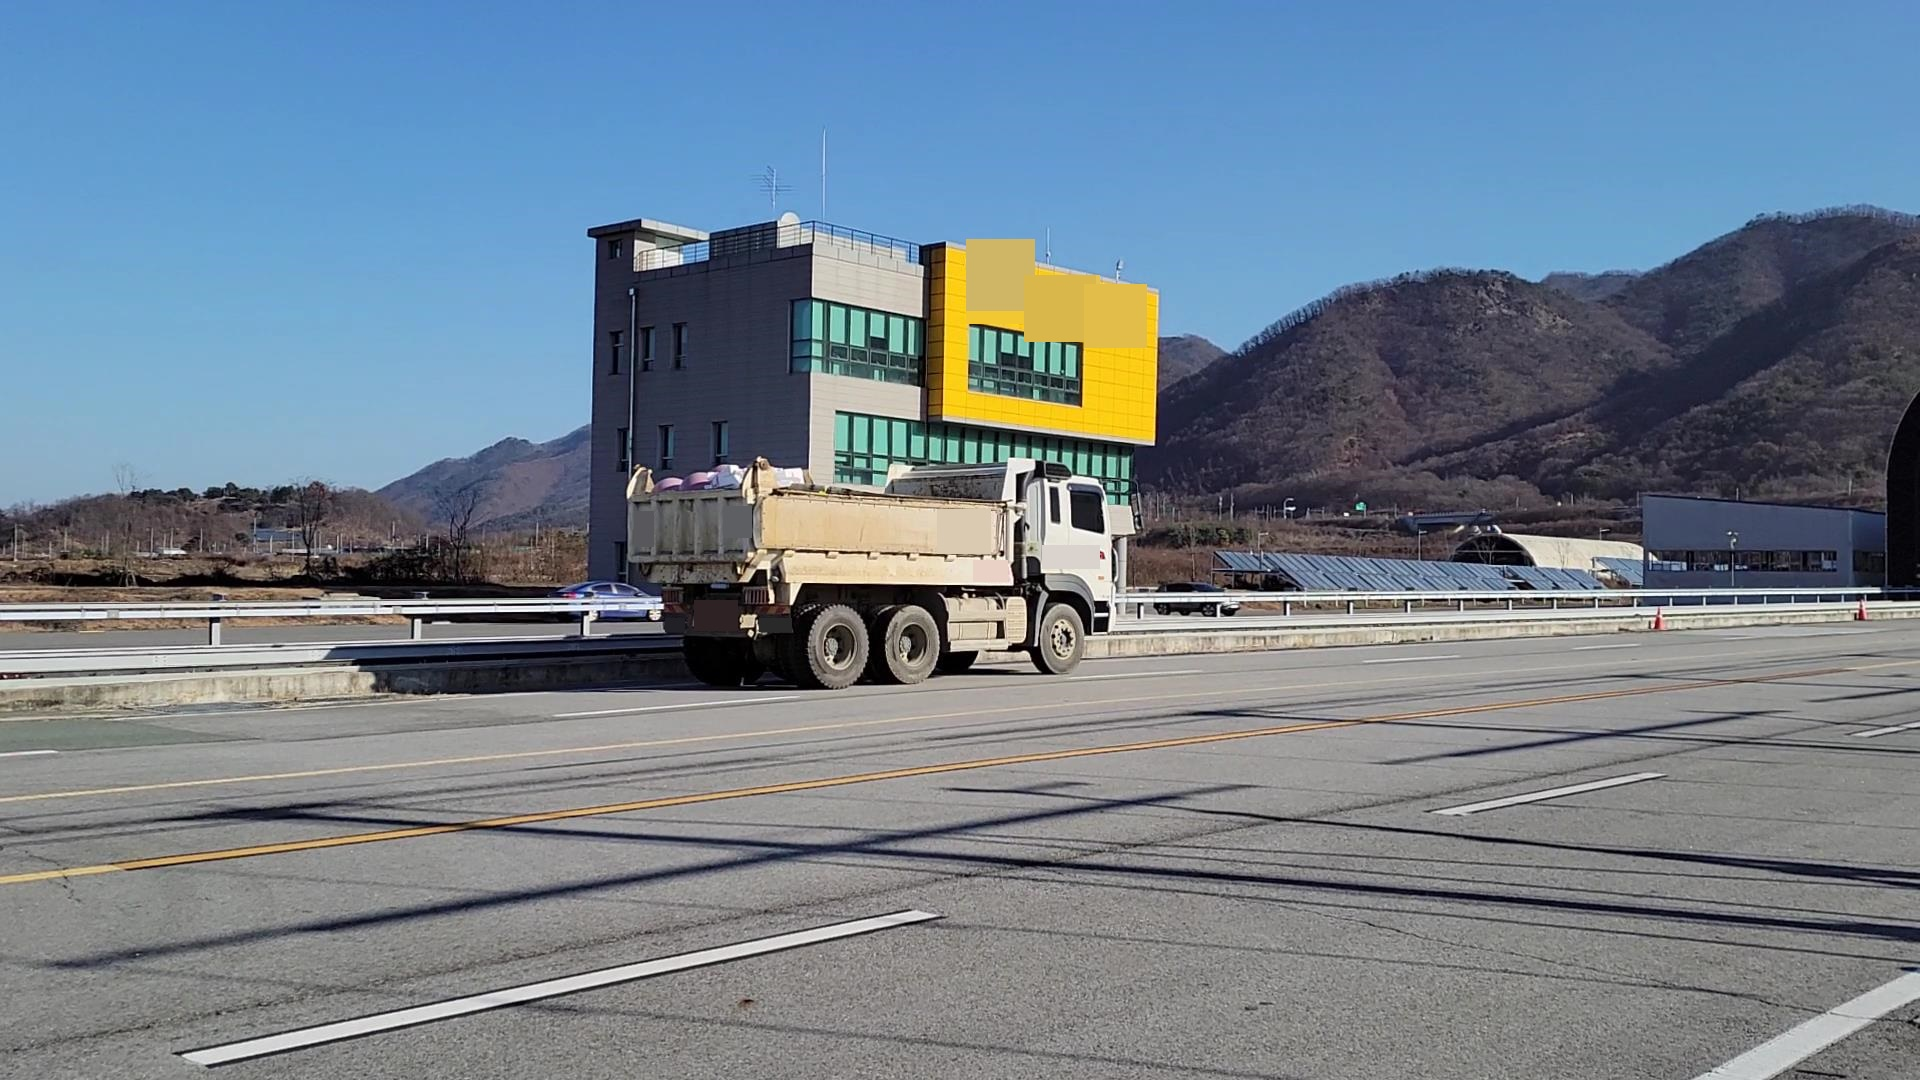불법차량: (625, 458, 1143, 690)
